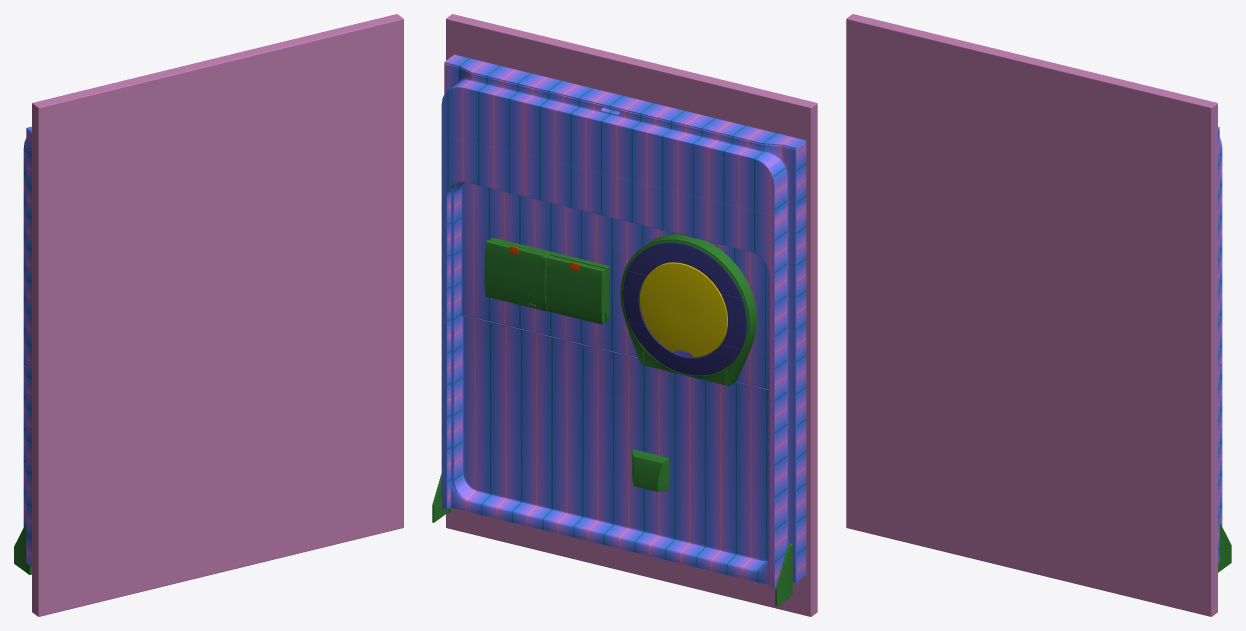
Rendered from SM_Dishwasher_Front.fbx.
The picture shows the model from 3 angles, left to right: view 1: azimuth 30°, elevation 25°; view 2: azimuth 150°, elevation 25°; view 3: azimuth 330°, elevation 25°; orthographic projection.
Parts seen in each view (by area): view 1: SM_Dishwasher_Front; view 2: SM_Dishwasher_Front; view 3: SM_Dishwasher_Front.
Part boxes in pixels (left/top/right/bottom): SM_Dishwasher_Front: left=14, top=14, right=403, bottom=616; SM_Dishwasher_Front: left=432, top=14, right=817, bottom=616; SM_Dishwasher_Front: left=846, top=14, right=1231, bottom=616.
Bounding box in the file's own units: 59.69 × 79.49 × 9.22.
7 materials, 2 textured.
